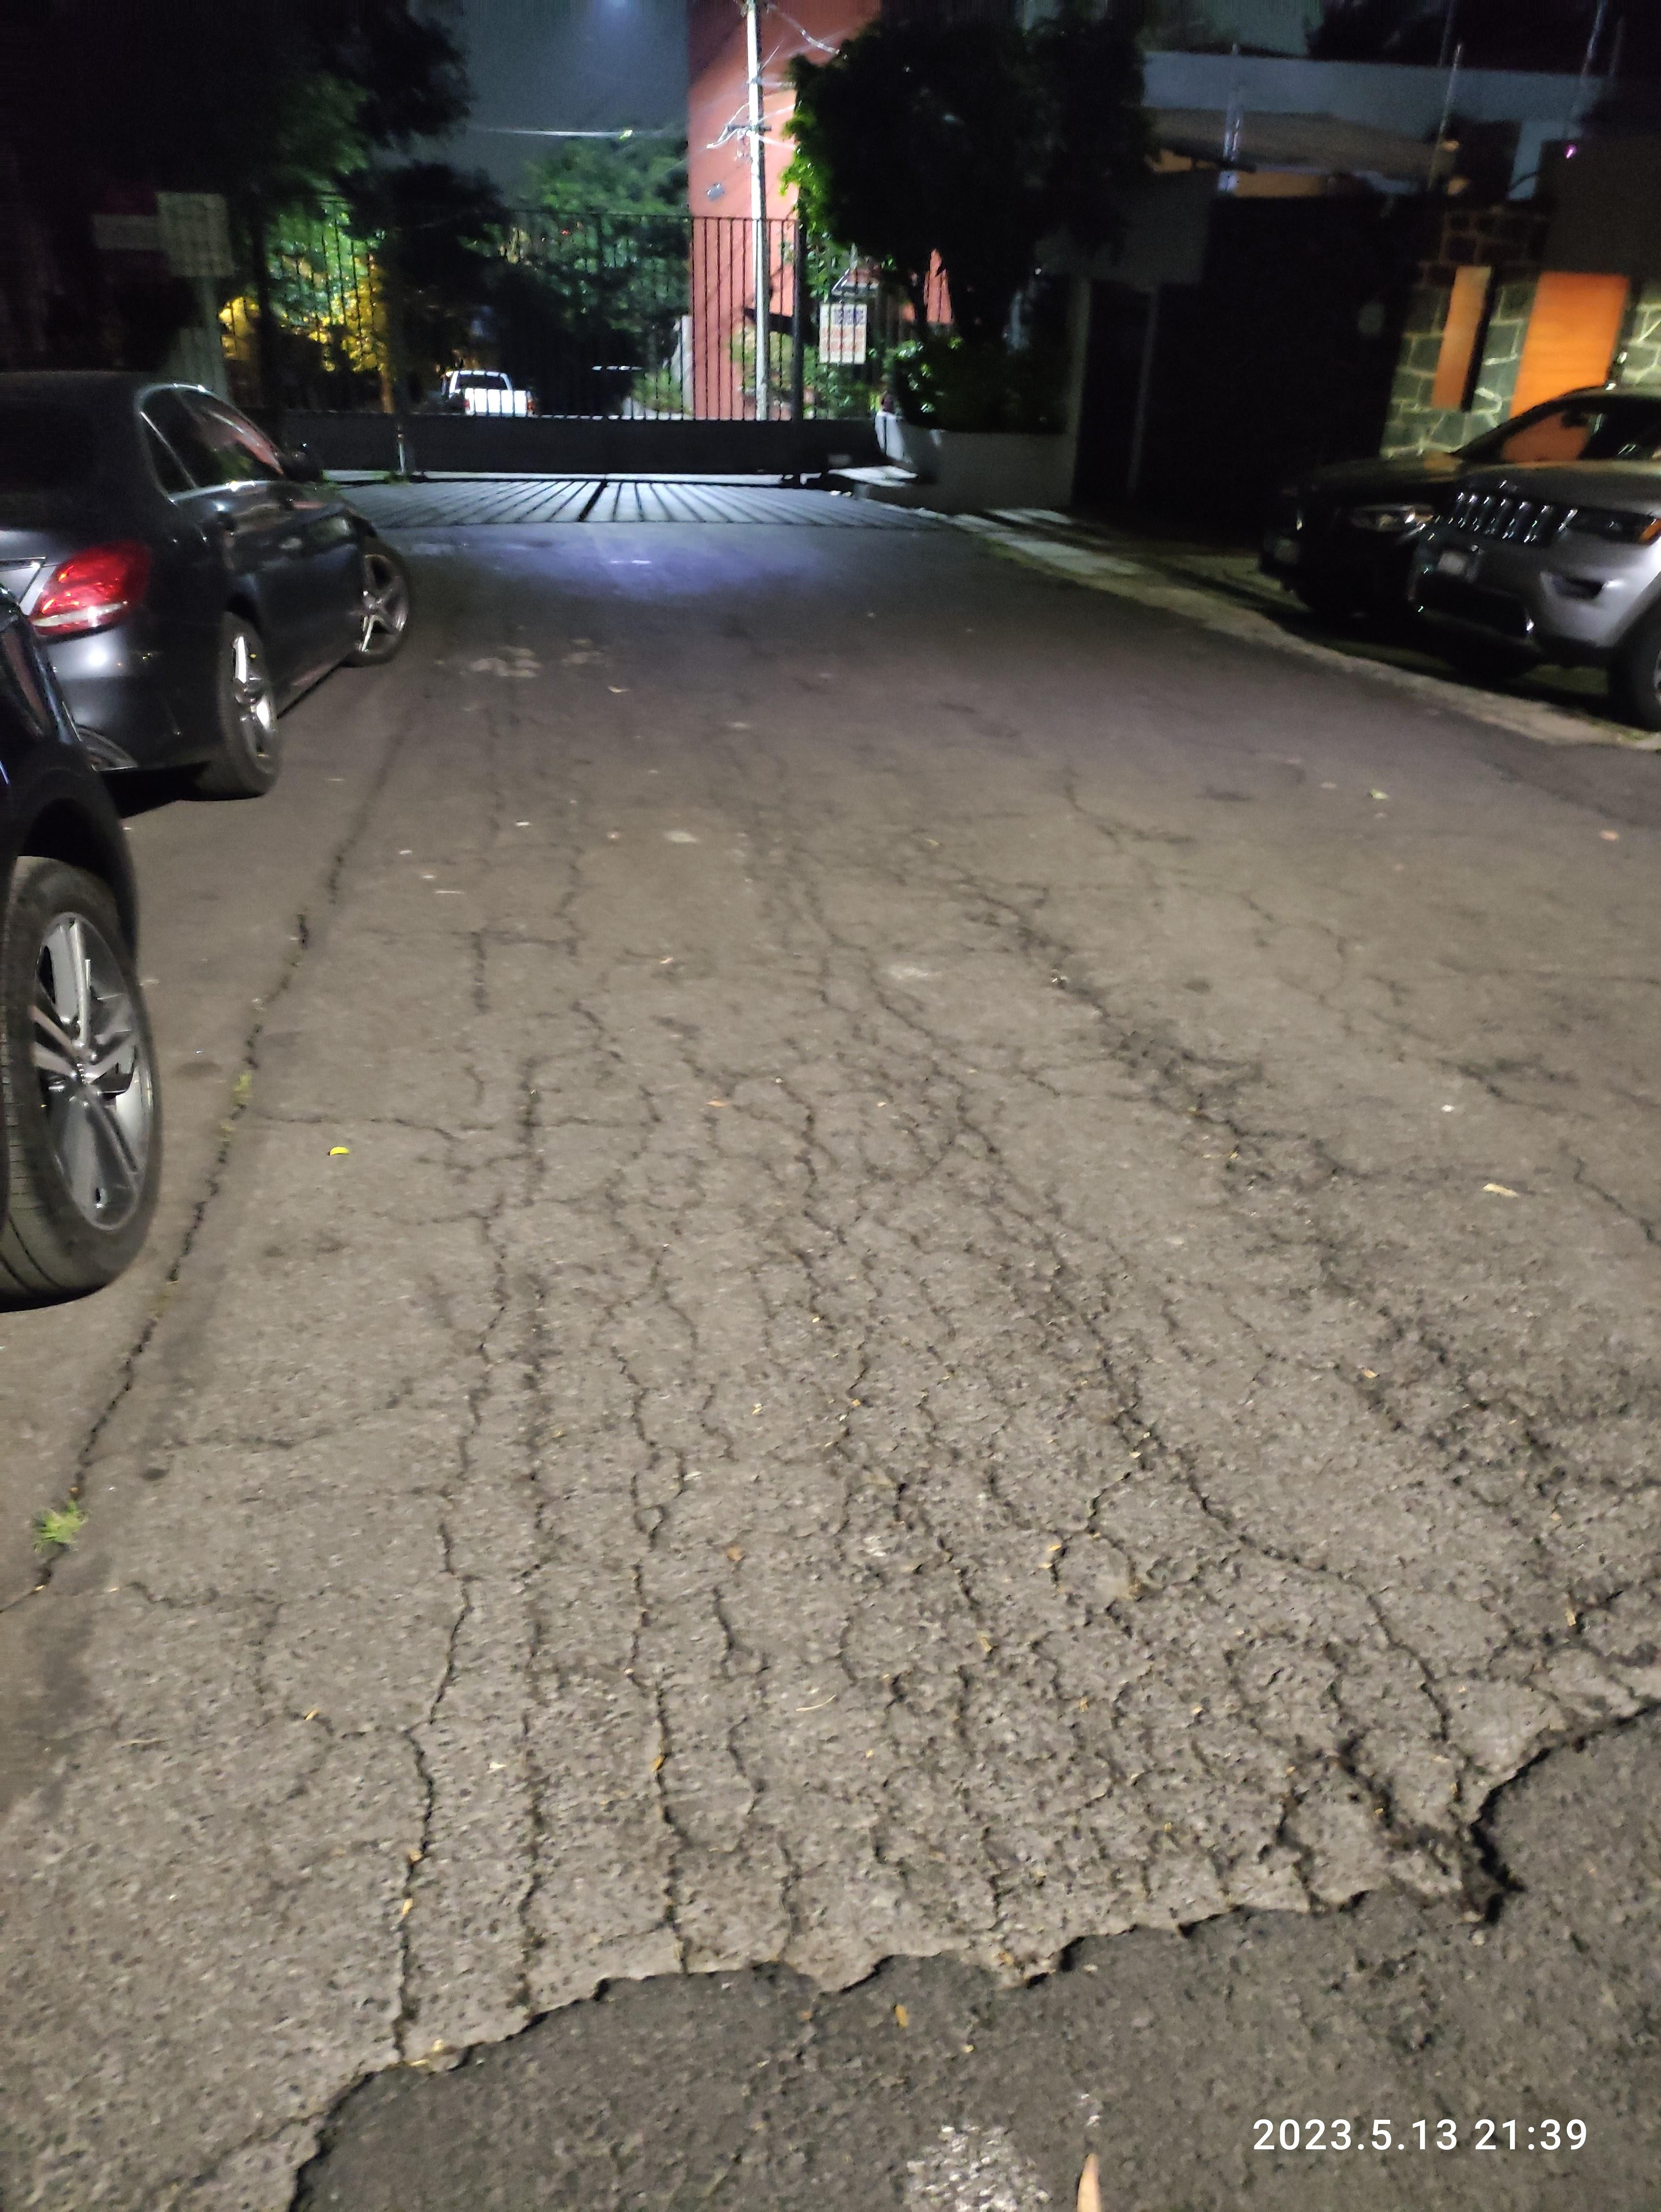alligator-crack: (344, 741, 1631, 2200)
